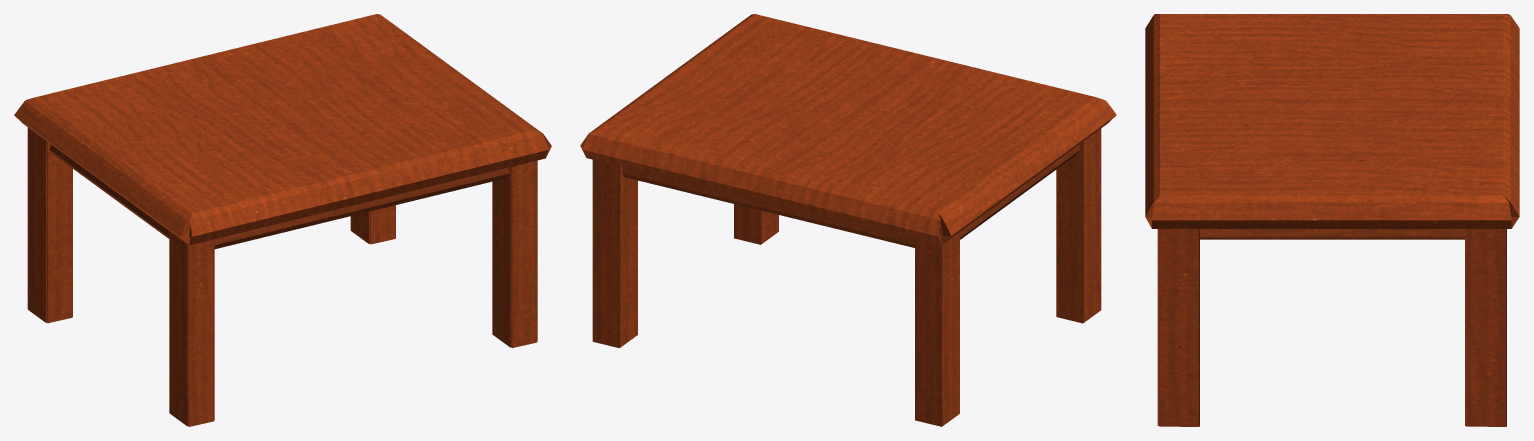
File: in Table.fbx
3 renders of one model, left to right at view 1: azimuth 30°, elevation 25°; view 2: azimuth 150°, elevation 25°; view 3: azimuth 270°, elevation 25°, orthographic. The views are drawn at different scales.
Visible parts, largest first — view 1: in Table; view 2: in Table; view 3: in Table.
Part boxes in pixels (x1,y1,x2,y2): in Table: (14,14,551,426); in Table: (580,14,1116,426); in Table: (1145,14,1519,426).
Size of the model in its own units: 5.59 by 3.04 by 4.49.
